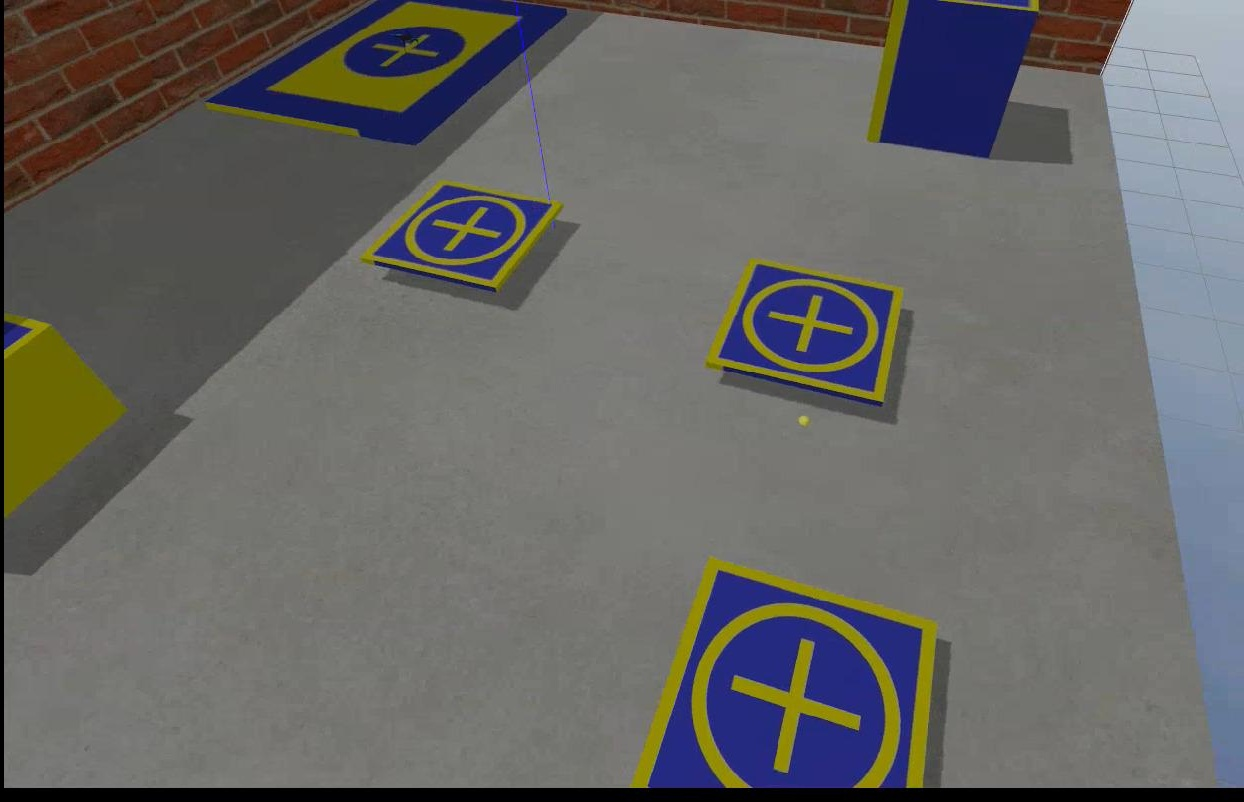large_base: (204, 1, 564, 148)
small_base: (622, 557, 936, 792), (702, 259, 905, 410), (356, 180, 562, 299)
